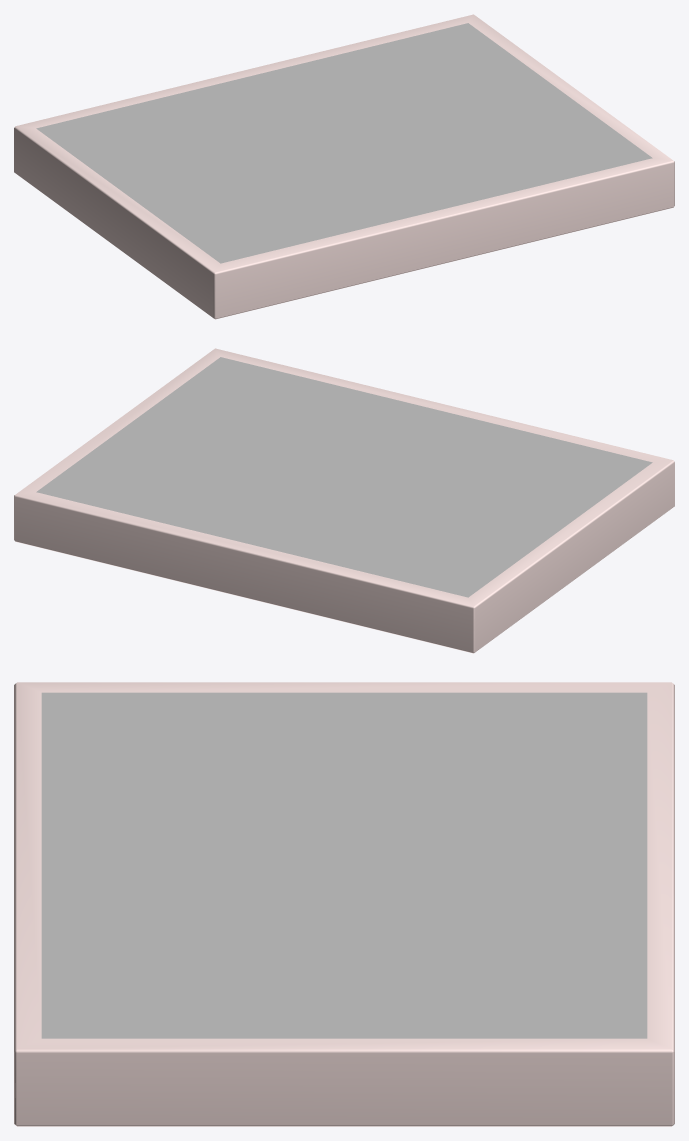
The model's file is Public_16_Base_1.glb.
The picture shows the model from 3 angles, top to bottom: view 1: azimuth 30°, elevation 25°; view 2: azimuth 150°, elevation 25°; view 3: azimuth 270°, elevation 25°; orthographic projection. The views are drawn at different scales.
Parts seen in each view (by area): view 1: Public_16_Base_1; view 2: Public_16_Base_1; view 3: Public_16_Base_1.
Part boxes in pixels (<box>): Public_16_Base_1: <box>14,14,674,319</box>; Public_16_Base_1: <box>14,348,674,653</box>; Public_16_Base_1: <box>14,682,674,1126</box>.
Bounding box in the file's own units: 12.93 × 1.27 × 9.77.
Materials: 1 (1 with a texture image).
